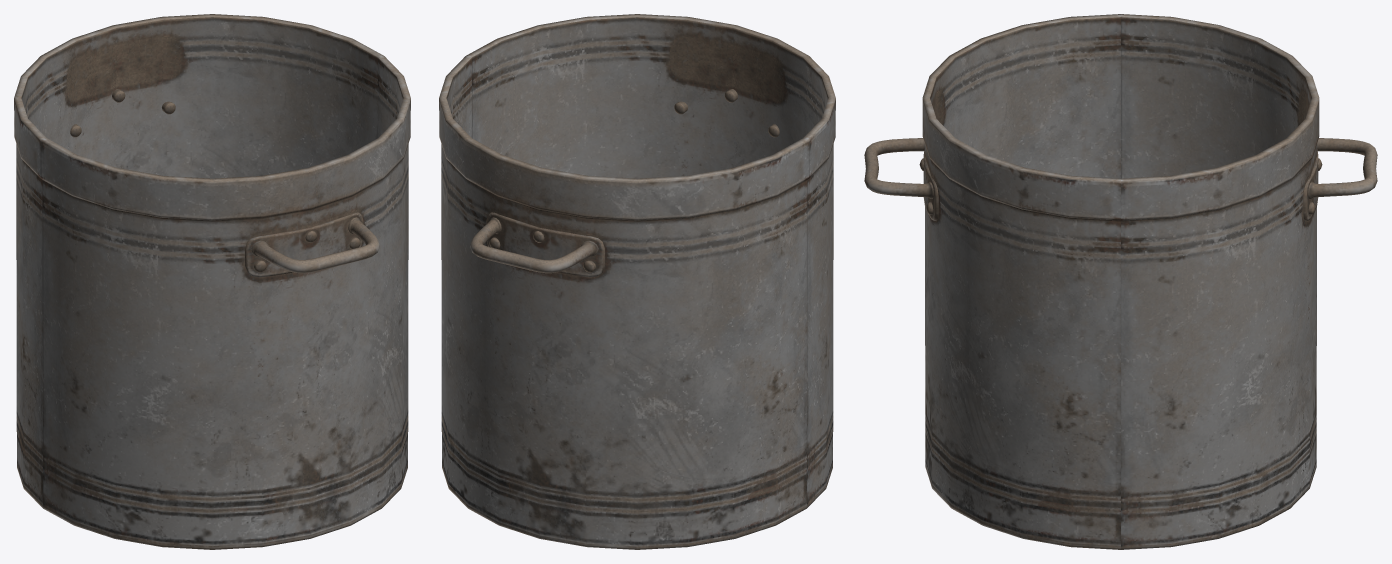
File: SM_Kitchenware01_1_LOD0.glb
3 views of the same model, side by side, from view 1: azimuth 30°, elevation 25°; view 2: azimuth 150°, elevation 25°; view 3: azimuth 270°, elevation 25° (orthographic).
Visible parts, largest first — view 1: SM_Kitchenware01_1_LOD0; view 2: SM_Kitchenware01_1_LOD0; view 3: SM_Kitchenware01_1_LOD0.
Boxes of the visible parts, x1,y1,x2,y2 form: SM_Kitchenware01_1_LOD0: (14,14,410,549); SM_Kitchenware01_1_LOD0: (439,14,835,549); SM_Kitchenware01_1_LOD0: (864,14,1377,549).
Size of the model in its own units: 0.4147 by 0.426 by 0.5363.
1 material, 1 textured.
